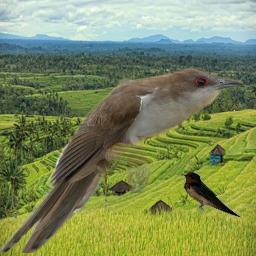Cuckoo: (0, 68, 246, 253)
Swallow: (182, 171, 241, 218)
